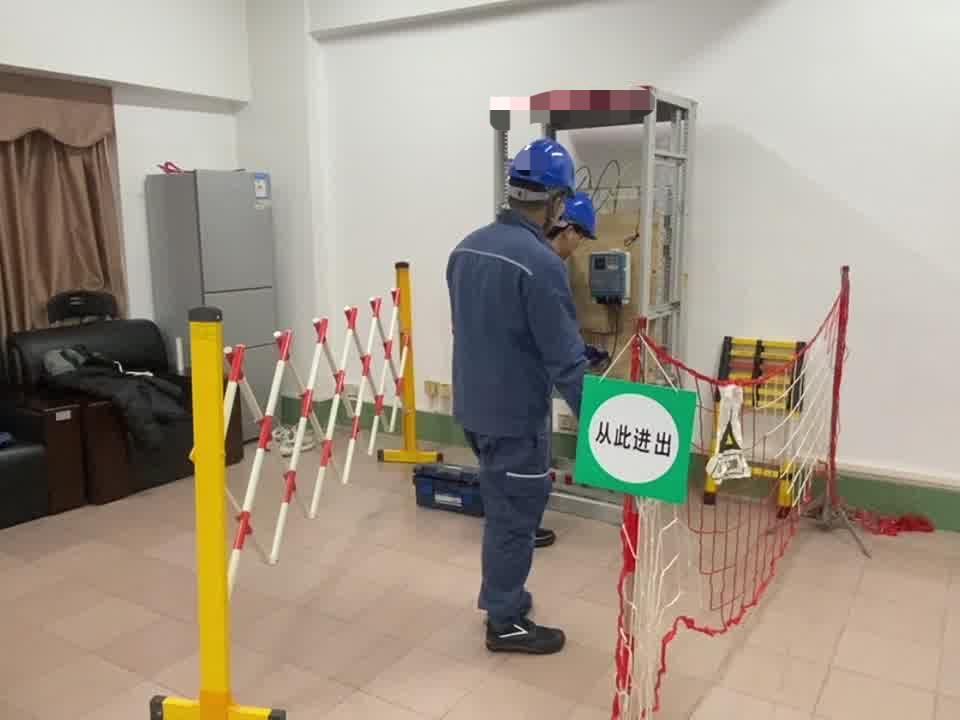halt: (507, 138, 581, 214), (559, 196, 603, 253)
